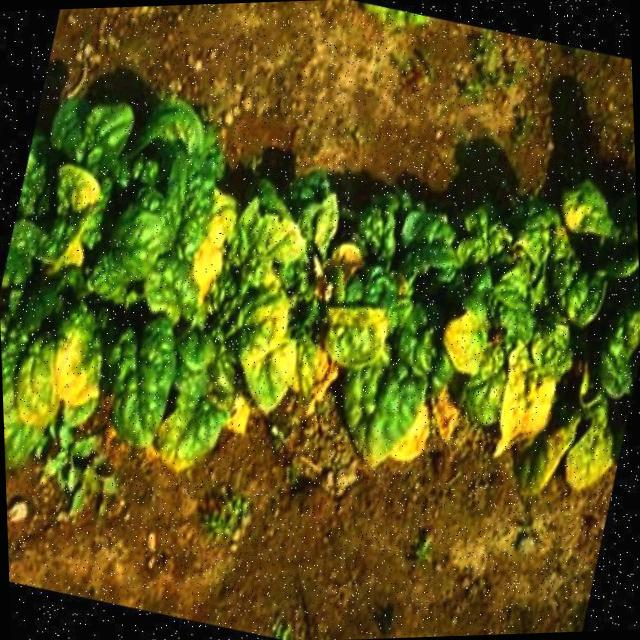Powdery_Mildew: (0, 148, 211, 419), (429, 229, 617, 460), (202, 196, 386, 421)
